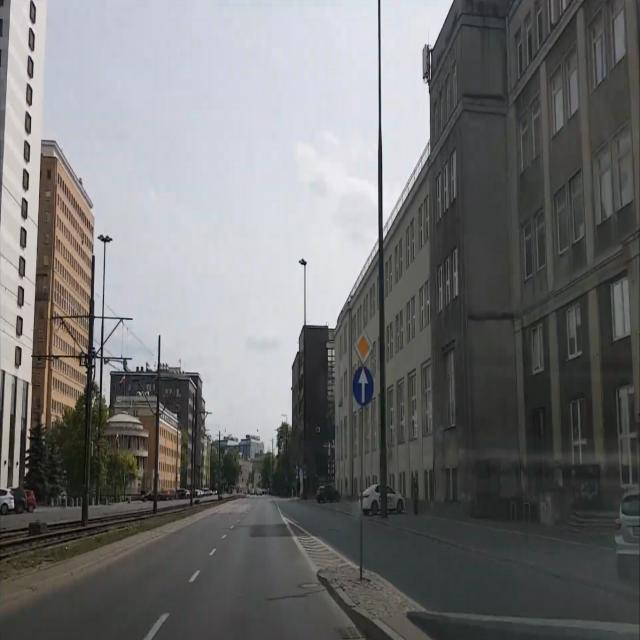Droga z pierwszenstwem: (354, 328, 374, 365)
